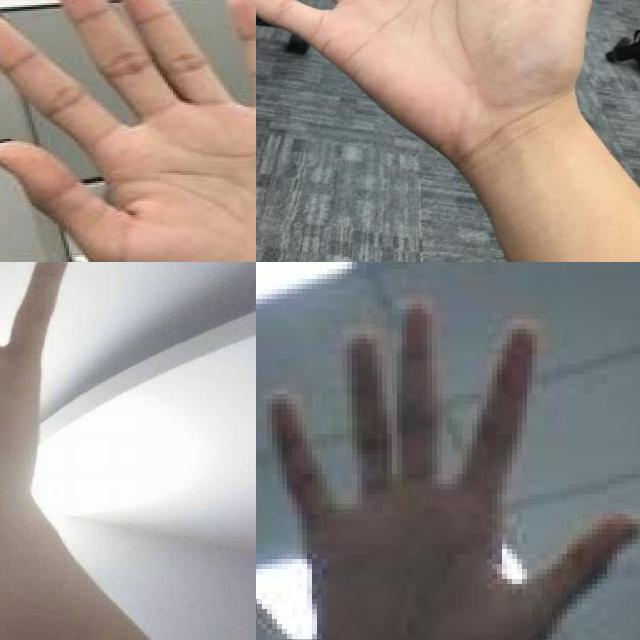hand: (262, 294, 640, 640), (0, 0, 256, 262), (256, 0, 608, 155), (0, 262, 74, 531)
